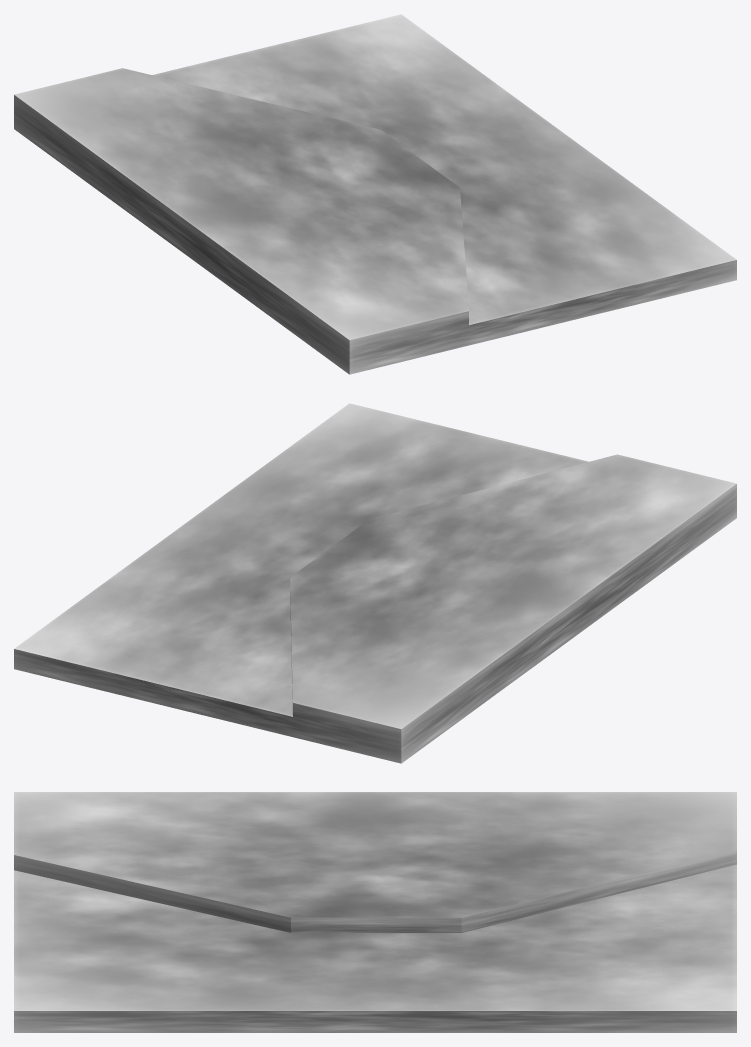
File: zapiska.fbx
The picture shows the model from 3 angles, top to bottom: view 1: azimuth 30°, elevation 25°; view 2: azimuth 150°, elevation 25°; view 3: azimuth 270°, elevation 25°; orthographic projection. The views are drawn at different scales.
Visible parts, largest first — view 1: zapiska; view 2: zapiska; view 3: zapiska.
Boxes of the visible parts, x1,y1,x2,y2 form: zapiska: (14,14,736,374); zapiska: (14,403,736,763); zapiska: (14,792,736,1032).
Size of the model in its own units: 7.87 by 0.6693 by 11.81.
Materials: 1 (1 with a texture image).
